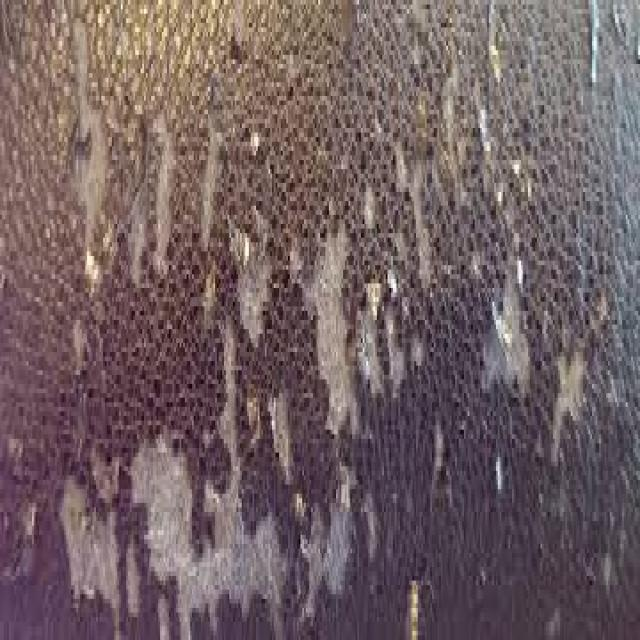Rotten surface: (148, 131, 401, 406), (63, 414, 363, 616)
